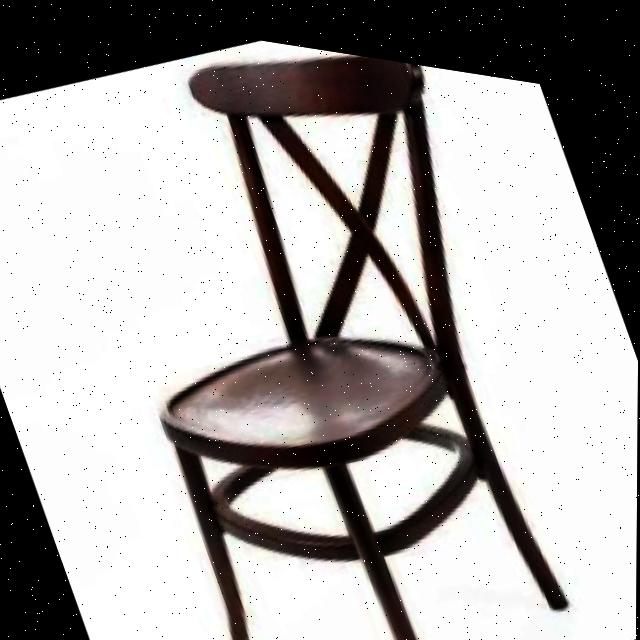sandalye: (33, 5, 631, 640)
